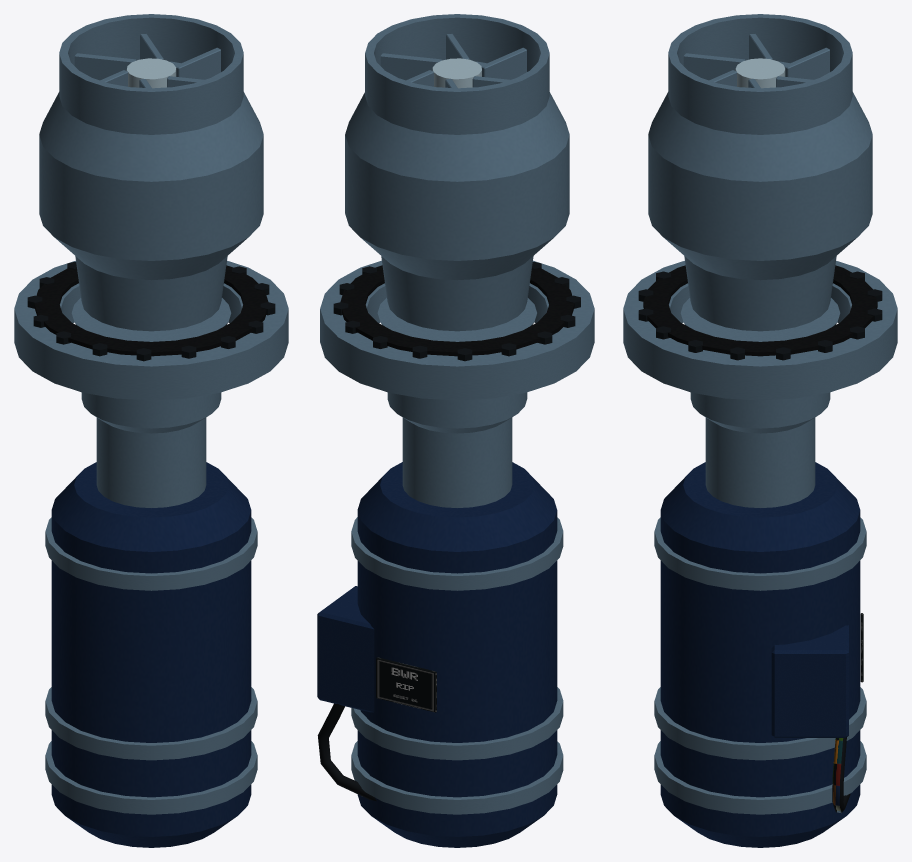
The model's file is assembled.obj.
3 renders of one model, left to right at view 1: azimuth 30°, elevation 25°; view 2: azimuth 150°, elevation 25°; view 3: azimuth 270°, elevation 25°, orthographic.
Parts seen in each view (by area): view 1: rip_pump; view 2: rip_pump; view 3: rip_pump.
Part boxes in pixels (bbox=[...]): rip_pump: bbox=[14, 14, 288, 847]; rip_pump: bbox=[317, 14, 594, 847]; rip_pump: bbox=[623, 14, 897, 847].
Bounding box in the file's own units: 1.1 × 3.38 × 1.1.
